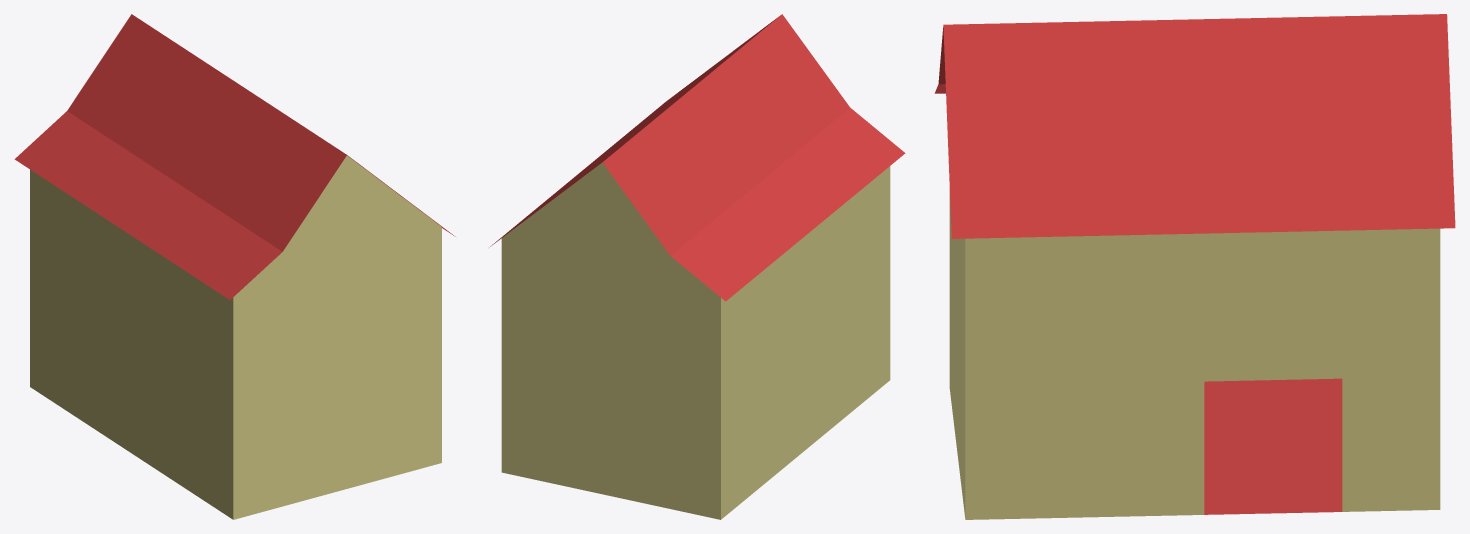
The picture shows the model from 3 angles, left to right: view 1: azimuth 30°, elevation 25°; view 2: azimuth 150°, elevation 25°; view 3: azimuth 270°, elevation 25°; orthographic projection. The views are drawn at different scales.
Size of the model in its own units: 12.84 by 18.15 by 16.58.
